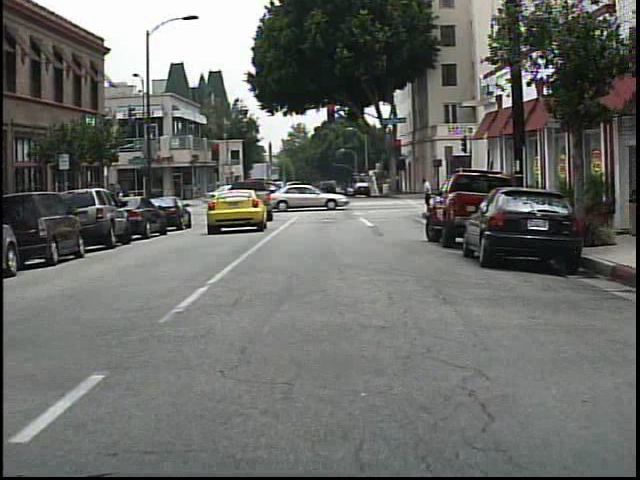person: (414, 171, 437, 216)
